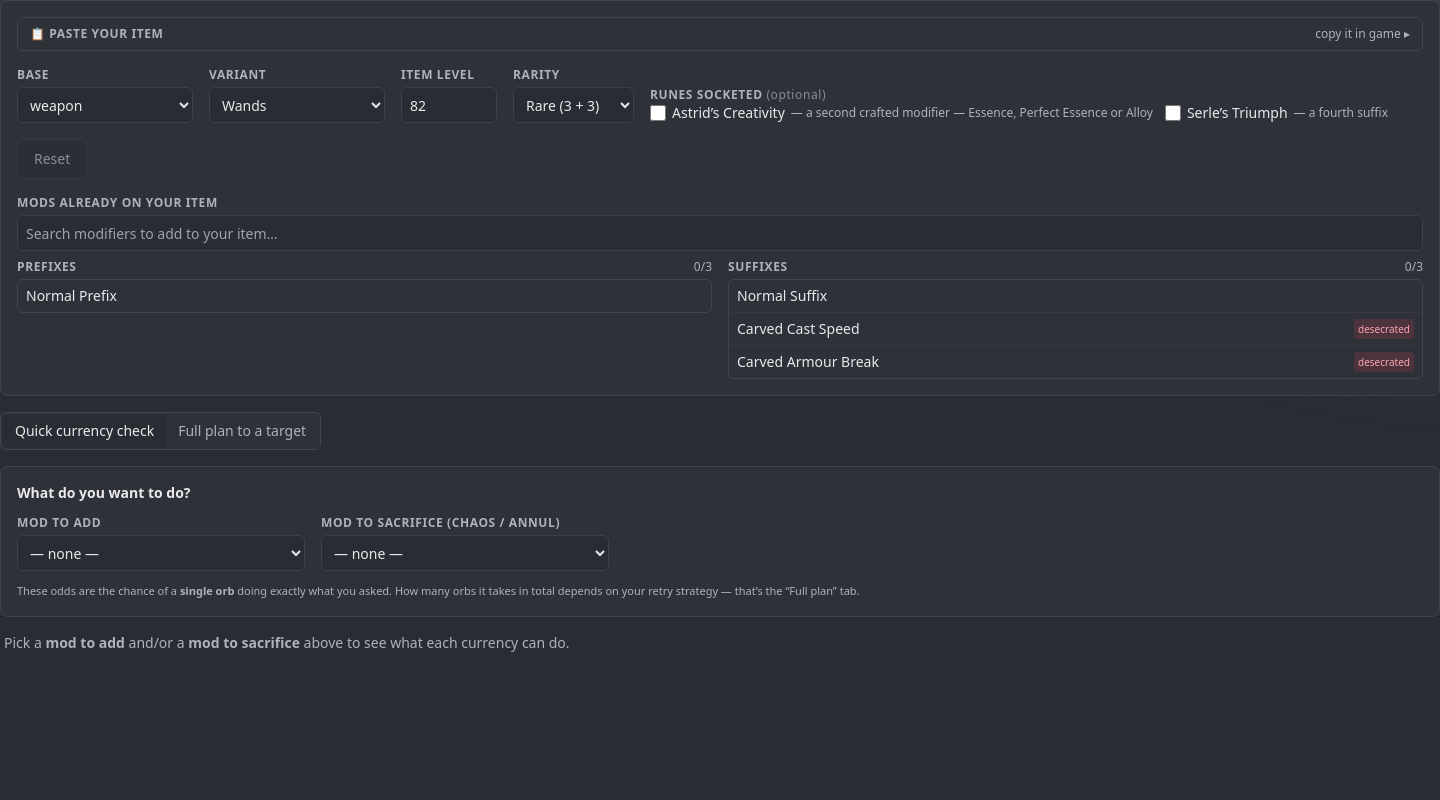
Scenario: ItemActions — why Compute plan is unavailable › names the missing precondition when no target is picked
This screenshot has width=1440, height=800.
Expected: the field with placeholder "Search modifiers to add to your item…" is shown, left=17, top=215, right=1423, bottom=251
Step 1. Click the button "Full plan to a target" → [242, 431], box left=166, top=415, right=318, bottom=447
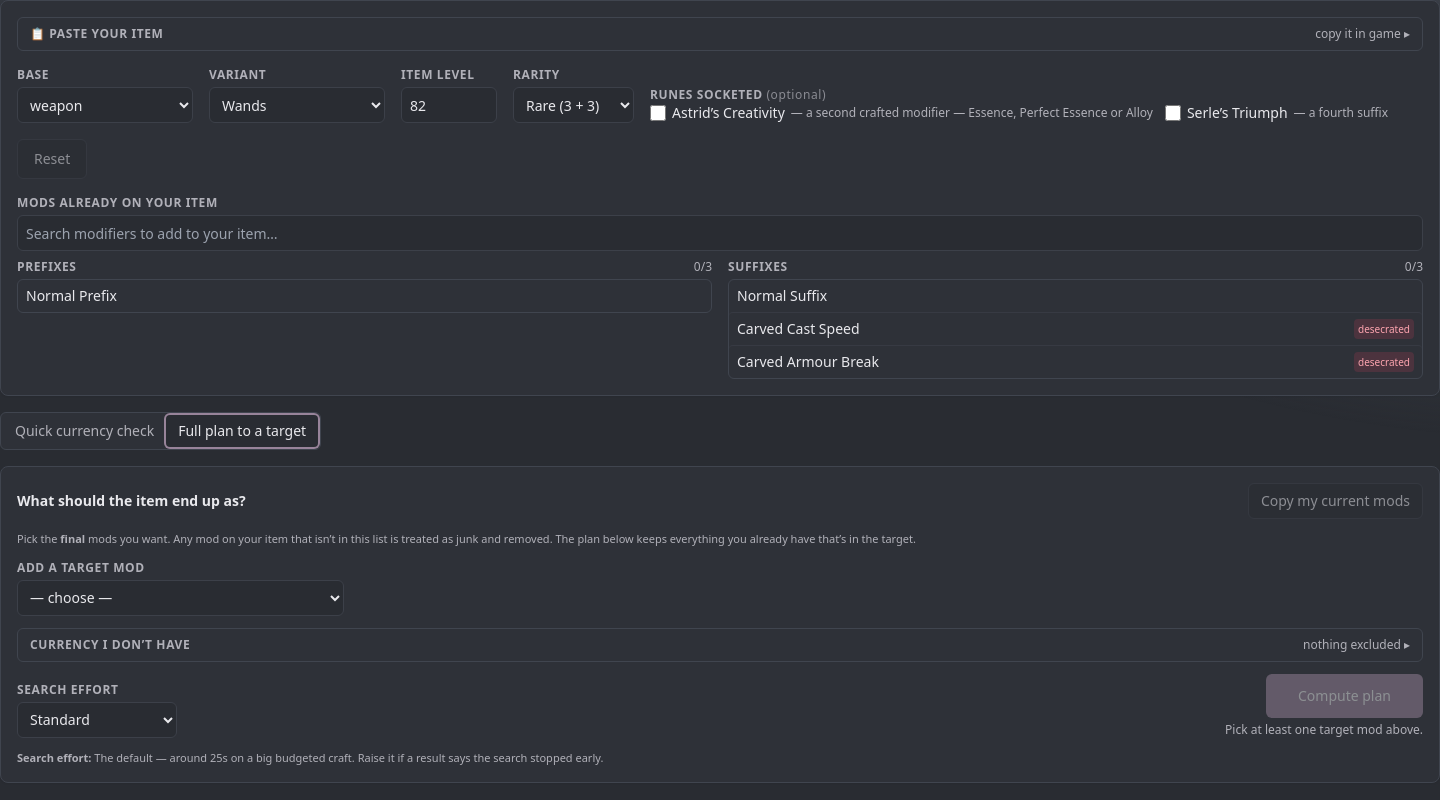
Expected: the button "Compute plan" is disabled, left=1266, top=674, right=1423, bottom=718
Expected: the text "Pick at least one target mod above." is shown, left=1225, top=722, right=1423, bottom=738
